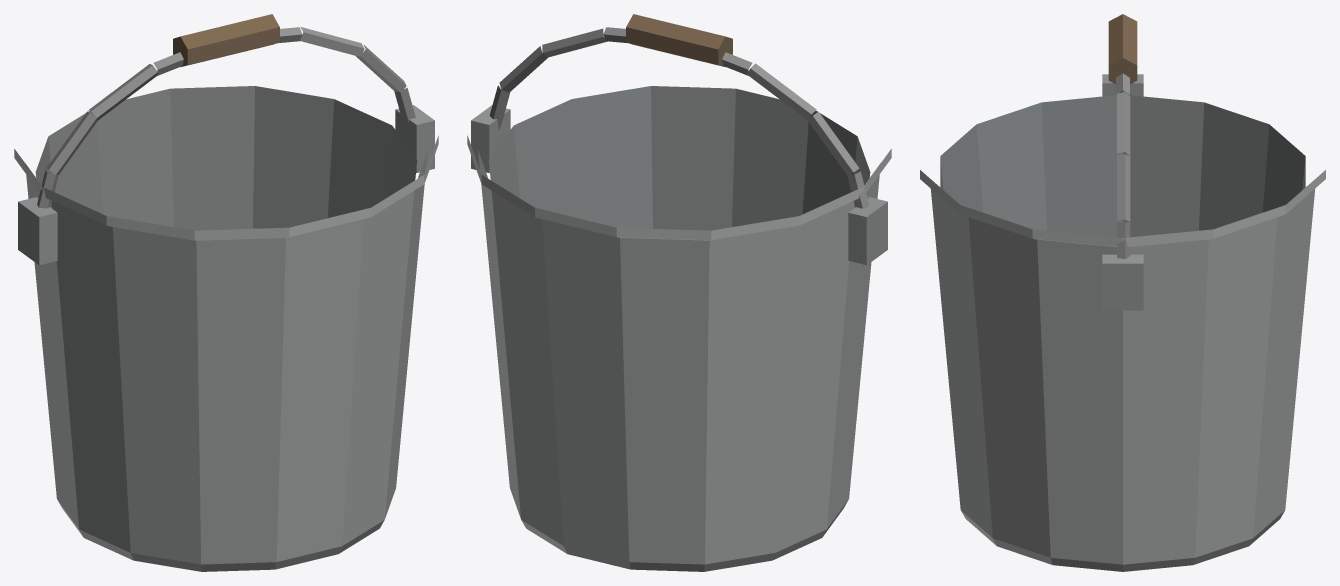
The model's file is eimer_zink_gross.glb.
The picture shows the model from 3 angles, left to right: view 1: azimuth 30°, elevation 25°; view 2: azimuth 150°, elevation 25°; view 3: azimuth 270°, elevation 25°; orthographic projection. The views are drawn at different scales.
Parts seen in each view (by area): view 1: eimer; view 2: eimer; view 3: eimer.
Part boxes in pixels (x1,y1,x2,y2): eimer: [14, 14, 438, 571]; eimer: [467, 14, 891, 571]; eimer: [920, 14, 1325, 571].
Size of the model in its own units: 0.43 by 0.496 by 0.39.
